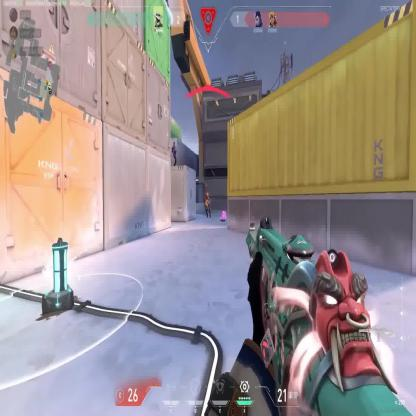enemy: (171, 140, 178, 167), (205, 191, 211, 217)
enemy_head: (206, 192, 209, 198), (173, 141, 175, 148)
